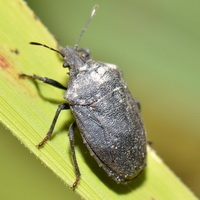insect: (19, 6, 145, 187)
